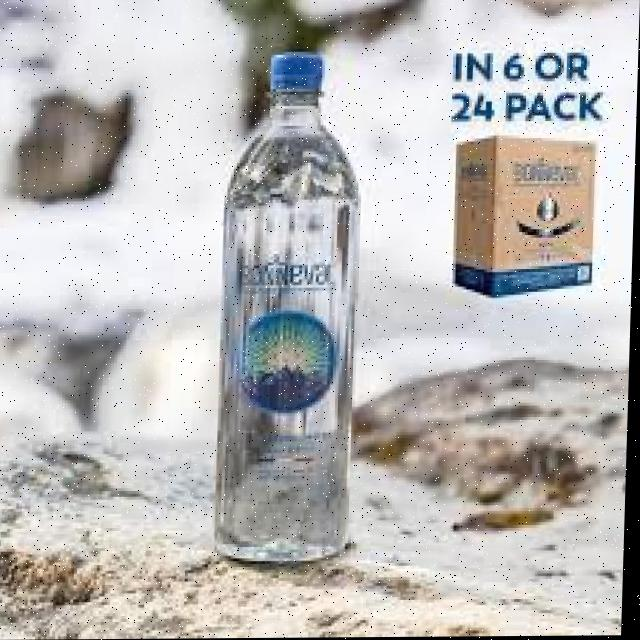bottle: (183, 55, 412, 588)
